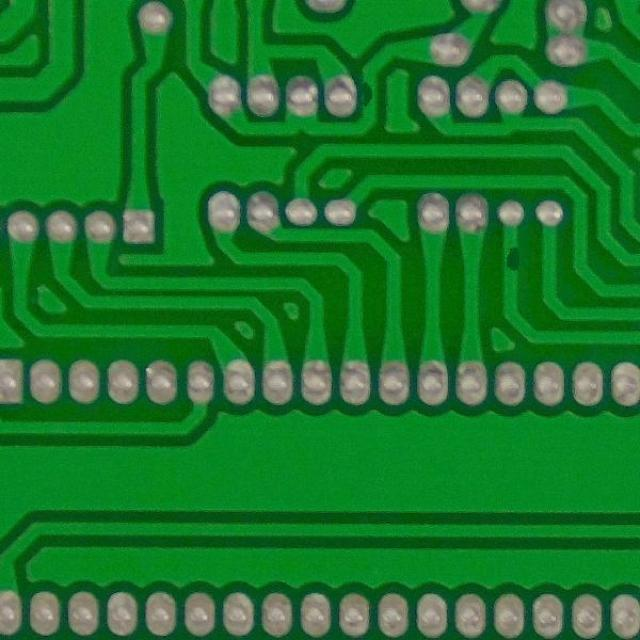MouseBite: (497, 240, 525, 278), (356, 77, 382, 110)
